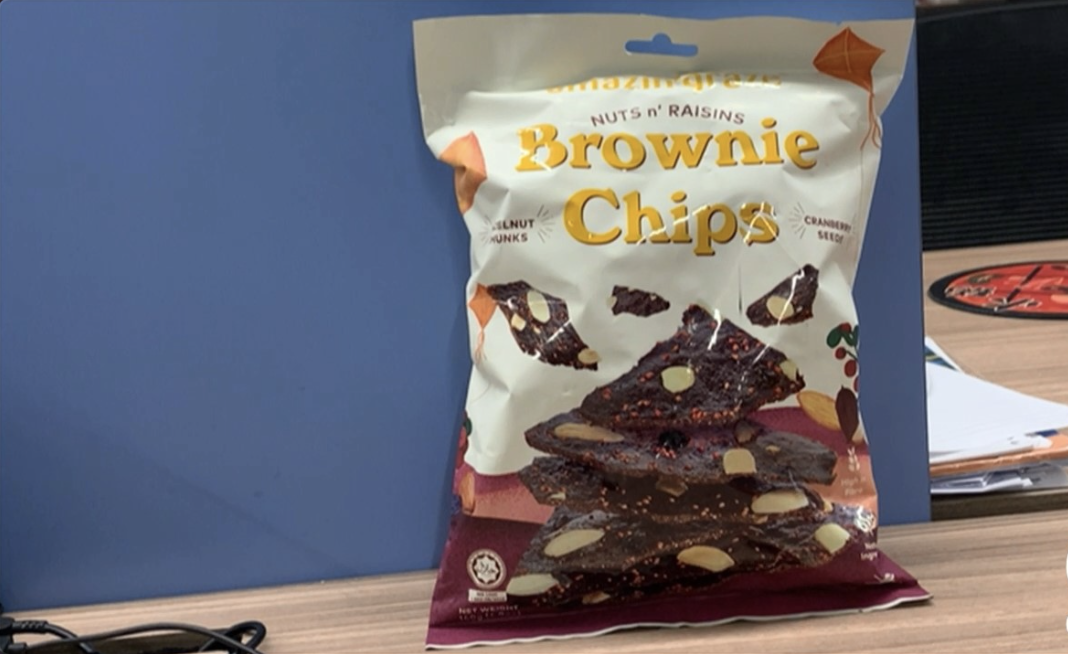crackers_150g: (460, 88, 875, 611)
